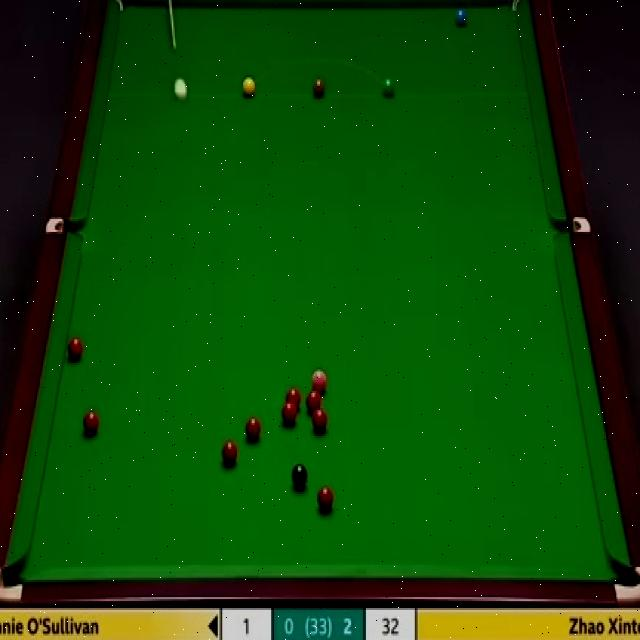black-ball: (291, 462, 310, 493)
blue-ball: (453, 4, 470, 30)
brown-ball: (312, 78, 326, 100)
green-ball: (381, 78, 396, 100)
pink-ball: (308, 368, 328, 394)
red-ball: (82, 409, 100, 439), (317, 487, 336, 513), (280, 402, 298, 428), (222, 440, 238, 467), (66, 336, 82, 362), (284, 387, 302, 410), (246, 416, 260, 444), (312, 408, 328, 432), (305, 391, 322, 412)
white-ball: (172, 76, 189, 102)
yellow-ball: (242, 77, 256, 99)
